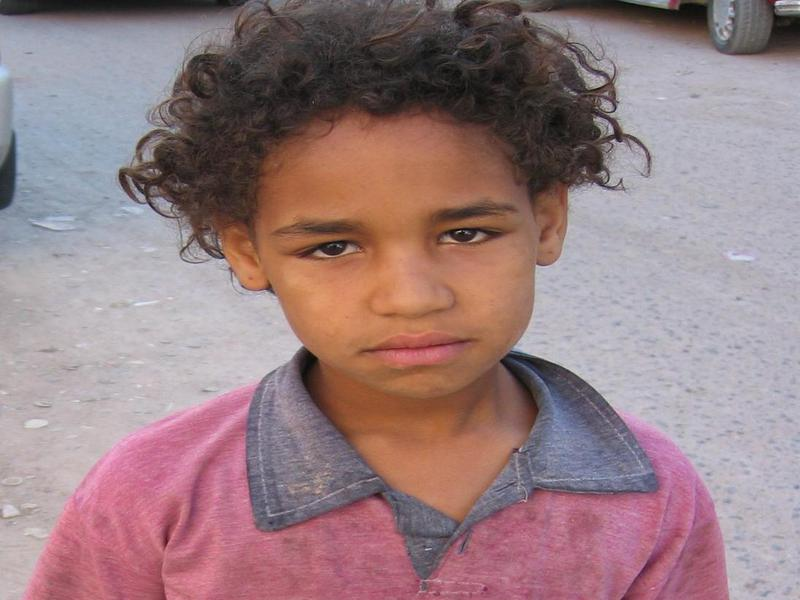person: (24, 1, 733, 600)
